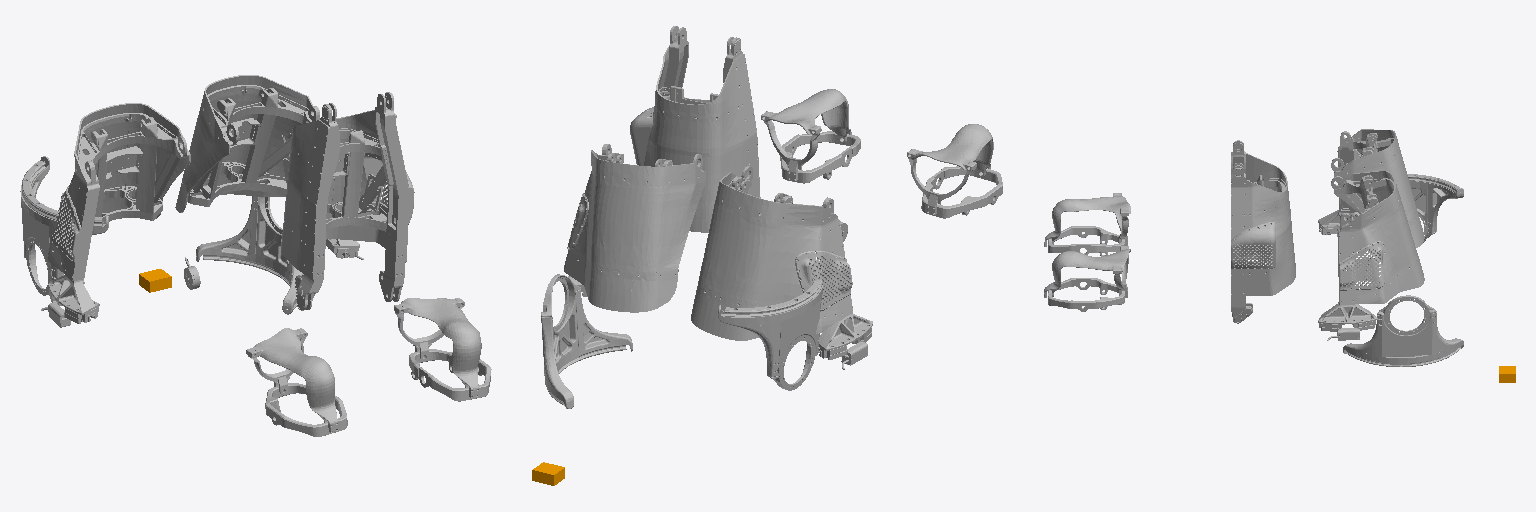
--- What the picture shows (computed from the rendered views, not written in the file) ---
The picture shows the robot from 3 angles, left to right: view 1: azimuth 30°, elevation 25°; view 2: azimuth 150°, elevation 25°; view 3: azimuth 270°, elevation 25°; orthographic projection.
Model p3_model with 19 links and 18 joints (12 revolute, 6 fixed), rooted at hip_ground_link, posed every joint at zero.
Visible links, largest first — view 1: left_shin_link, right_thigh_link, left_thigh_link, left_hip_fe_link, right_foot_link, left_foot_link, right_hip_fe_link, left_ankle_link, right_ankle_link, P3_IMU; view 2: right_thigh_link, left_thigh_link, left_shin_link, right_hip_fe_link, left_hip_fe_link, left_foot_link, right_foot_link, left_ankle_link, right_ankle_link, P3_IMU; view 3: left_thigh_link, left_shin_link, right_thigh_link, left_hip_fe_link, right_hip_fe_link, left_foot_link, right_foot_link, left_ankle_link, right_ankle_link.
Link boxes in pixels (x1,y1,x2,y2): left_shin_link: [281, 92, 414, 310]; right_thigh_link: [41, 103, 190, 327]; left_thigh_link: [175, 75, 363, 259]; left_hip_fe_link: [196, 196, 303, 314]; right_foot_link: [246, 328, 337, 432]; left_foot_link: [394, 298, 481, 397]; right_hip_fe_link: [20, 156, 108, 295]; left_ankle_link: [409, 349, 491, 401]; right_ankle_link: [265, 383, 347, 436]; P3_IMU: [139, 269, 171, 292]; right_thigh_link: [691, 166, 872, 369]; left_thigh_link: [564, 144, 705, 312]; left_shin_link: [630, 26, 760, 232]; right_hip_fe_link: [718, 259, 822, 390]; left_hip_fe_link: [541, 274, 632, 408]; left_foot_link: [761, 89, 851, 180]; right_foot_link: [907, 124, 993, 214]; left_ankle_link: [780, 131, 860, 183]; right_ankle_link: [921, 166, 1002, 218]; P3_IMU: [532, 462, 564, 485]; left_thigh_link: [1318, 171, 1424, 340]; left_shin_link: [1231, 140, 1295, 323]; right_thigh_link: [1318, 129, 1424, 247]; left_hip_fe_link: [1343, 295, 1463, 366]; right_hip_fe_link: [1407, 174, 1463, 242]; left_foot_link: [1044, 246, 1130, 297]; right_foot_link: [1044, 193, 1130, 246]; left_ankle_link: [1048, 278, 1124, 311]; right_ankle_link: [1048, 226, 1124, 255].
Size in the robot's own frame: 0.6043 by 1.11 by 0.6129 metres.
Meshes: 18 distinct files referenced, 10 mesh visuals loaded (10 binary STL); not drawn: 8 (reference not matched to a file when rendering).

robot.urdf — p3_model:
<robot
  name="p3_model">
  <link name="hip_ground_link">
    <inertial>
      <origin
        xyz="-0.00252 -0.04174 -0.21963"
        rpy="0 0 0" />
      <mass
        value="9.1437" />
      <inertia
        ixx="0.11497"
        ixy="-0.0021392"
        ixz="0.00014109"
        iyy="0.059666"
        iyz="0.022583"
        izz="0.16206" />
    </inertial>
    <visual>
      <origin
        xyz="0 0 0"
        rpy="-1.5707 0 0" />
      <geometry>
        <mesh
          filename="meshes/hip_ground_link.STL" />
      </geometry>
      <material
        name="">
        <color
          rgba="0.75294 0.75294 0.75294 1" />
      </material>
    </visual>
    <collision>
      <origin
        xyz="0 0 0"
        rpy="0 0 0" />
      <geometry>
        <mesh
          filename="meshes/hip_ground_link.STL" />
      </geometry>
    </collision>
  </link>
  <joint
    name="Sagit_P3_Hip_FT_Sensor"
    type="fixed">
    <origin
      xyz="0 -0.015 -0.15247"
      rpy="0 0 0" />
    <parent
      link="hip_ground_link" />
    <child
      link="hip_f/t_sensor" />
    <axis
      xyz="0 0 0" />
  </joint>
  <link
    name="hip_f/t_sensor">
    <inertial>
      <origin
        xyz="-0.000549097540975381 0.000203175483258886 -0.00714130419826856"
        rpy="0 0 0" />
      <mass
        value="0.046215262898878" />
      <inertia
        ixx="0"
        ixy="0"
        ixz="0"
        iyy="0"
        iyz="0"
        izz="0" />
    </inertial>
    <visual>
      <origin
        xyz="0 0 0"
        rpy="-1.57070 0 0" />
      <geometry>
        <mesh
          filename="meshes/hip_f_t_sensor.STL" />
      </geometry>
      <material
        name="">
        <color
          rgba="0.752941176470588 0.752941176470588 0.752941176470588 1" />
      </material>
    </visual>
    <collision>
      <origin
        xyz="0 0 0"
        rpy="0 0 0" />
      <geometry>
        <mesh
          filename="meshes/hip_f_t_sensor.STL" />
      </geometry>
    </collision>
  </link>
<!-- IMU Joint/Link -->
  <joint
    name="Sagit_P3_IMU_joint"
    type="fixed">
    <origin
      xyz="0.136 0.134 -0.179"
      rpy="1.5708 0 -1.5708" />
    <parent
      link="hip_ground_link" />
    <child
      link="P3_IMU" />
    <axis
      xyz="0 0 0" />
  </joint>
  <link
    name="P3_IMU">
    <inertial>
      <origin
        xyz="0 0 0"
        rpy="0 0 0" />
      <mass
        value="0.25" />
      <inertia
        ixx="0"
        ixy="0"
        ixz="0"
        iyy="0"
        iyz="0"
        izz="0" />
    </inertial>
    <visual>
      <origin
        xyz="-0.0193 -0.0224 0.01075"
        rpy="-1.57070 0 0" />
     <geometry>
       <box size="0.0386 0.0448 0.0215" />
     </geometry>
      <material
        name="">
        <color
          rgba="1 0.64705882352 0 1" />
      </material>
    </visual>
    <collision>
      <origin
        xyz="0 0 0"
        rpy="0 0 0" />
     <geometry>
       <box size="0.0386 0.0448 0.0215" />
     </geometry>
    </collision>
  </link>

   <!-- P3 RIGHT SIDE -->


  <joint
    name="Sagit_P3_Abduction_Right"
    type="revolute">
    <origin
      xyz="-0.1025 -0.19938 -0.15461"
      rpy="-0.52046 -0.060105 -0.10442" />
    <parent
      link="hip_ground_link" />
    <child
      link="right_hip_abd/add_link" />
    <axis
      xyz="0 0 1" />
    <limit
      effort="0"
      velocity="0"
      lower="-0.611"
      upper="0.873" />
  </joint>
  <link
    name="right_hip_abd/add_link">
    <inertial>
      <origin
        xyz="-0.14506 0.02434 0.14214"
        rpy="0 0 0" />
      <mass
        value="2.37" />
      <inertia
        ixx="0.0114056540911523"
        ixy="-0.00168082766225483"
        ixz="0.00610247598439131"
        iyy="0.0151927917692044"
        iyz="0.00334524244885922"
        izz="0.006361868744477" />
    </inertial>
    <visual>
      <origin
        xyz="0 0 0"
        rpy="-1.57070 0 0" />
      <geometry>
        <mesh
          filename="meshes/right_hip_abd_add_link.STL" />
      </geometry>
      <material
        name="">
        <color
          rgba="0.752941176470588 0.752941176470588 0.752941176470588 1" />
      </material>
    </visual>
    <collision>
      <origin
        xyz="0 0 0"
        rpy="0 0 0" />
      <geometry>
        <mesh
          filename="meshes/right_hip_abd_add_link.STL" />
      </geometry>
    </collision>
  </link>
  <joint
    name="Sagit_P3_Flexion_Right"
    type="revolute">
    <origin
      xyz="-0.1475 0.00075 0.1992"
      rpy="0.5236 6.245E-17 -2.1164E-16" />
    <parent
      link="right_hip_abd/add_link" />
    <child
      link="right_hip_fe_link" />
    <axis
      xyz="1 0 0" />
    <limit
      effort="0"
      velocity="0"
      lower="-1.963"
      upper="0.262" />
  </joint>
  <link
    name="right_hip_fe_link">
    <inertial>
      <origin
        xyz="0.02125 -0.10906 0.00004"
        rpy="0 0 0" />
      <mass
        value="2.38" />
      <inertia
        ixx="0.00334659558092072"
        ixy="0.000217334132544034"
        ixz="-4.16170985997141E-07"
        iyy="0.00237506737299935"
        iyz="-5.9660412382548E-07"
        izz="0.00110550421000643" />
    </inertial>
    <visual>
      <origin
        xyz="0 0 0"
        rpy="-1.57070 0 0" />
      <geometry>
        <mesh
          filename="meshes/right_hip_fe_link.STL" />
      </geometry>
      <material
        name="">
        <color
          rgba="0.752941176470588 0.752941176470588 0.752941176470588 1" />
      </material>
    </visual>
    <collision>
      <origin
        xyz="0 0 0"
        rpy="0 0 0" />
      <geometry>
        <mesh
          filename="meshes/right_hip_fe_link.STL" />
      </geometry>
    </collision>
  </link>
  <!-- type can be switched from fixed to revolute -->
  <!-- <joint
    name="Sagit_P3_Hip_Yaw_Right"
    type="revolute"> -->
  <joint
    name="Sagit_P3_Hip_Yaw_Right_Passive"
    type="revolute">
  <!-- <joint
    name="Sagit_P3_Hip_Yaw_Right_Passive"
    type="fixed"> -->
    <origin
      xyz="0.1475 -0.142 0"
      rpy="8.5825E-16 2.0817E-17 -9.5678E-16" />
    <parent
      link="right_hip_fe_link" />
    <child
      link="right_thigh_link" />
    <axis
      xyz="0 1 0" />
    <limit
      effort="0"
      velocity="0"
      lower="-0.611"
      upper="0.611" />
  </joint>
  <link
    name="right_thigh_link">
    <inertial>
      <origin
        xyz="-0.02903 -0.11972 0.09439"
        rpy="0 0 0" />
      <mass
        value="3.19" />
      <inertia
        ixx="0.0162000606171735"
        ixy="0.00879667099291498"
        ixz="-0.00473963596430454"
        iyy="0.0136139183996148"
        iyz="0.00400927557737052"
        izz="0.0214349854288065" />
    </inertial>
    <visual>
      <origin
        xyz="0 0 0"
        rpy="-1.57070 0 0" />
      <geometry>
        <mesh
          filename="meshes/right_thigh_link.STL" />
      </geometry>
      <material
        name="">
        <color
          rgba="0.752941176470588 0.752941176470588 0.752941176470588 1" />
      </material>
    </visual>
    <collision>
      <origin
        xyz="0 0 0"
        rpy="0 0 0" />
      <geometry>
        <mesh
          filename="meshes/right_thigh_link.STL" />
      </geometry>
    </collision>
  </link>
  <joint
    name="Sagit_P3_Thigh_Right_FT_Sensor"
    type="fixed">
    <origin
      xyz="0 -0.18709 0.081984"
      rpy="-3.1416 0.2618 -1.5708" />
    <parent
      link="right_thigh_link" />
    <child
      link="right_thigh_f/t_sensor" />
    <axis
      xyz="0 0 0" />
  </joint>
  <link
    name="right_thigh_f/t_sensor">
    <inertial>
      <origin
        xyz="-0.000549094925531513 0.000203174302725456 -0.00714130327248891"
        rpy="0 0 0" />
      <mass
        value="0.0462152585935042" />
      <inertia
        ixx="0"
        ixy="0"
        ixz="0"
        iyy="0"
        iyz="0"
        izz="0" />
    </inertial>
    <visual>
      <origin
        xyz="0 0 0"
        rpy="-1.57070 0 0" />
      <geometry>
        <mesh
          filename="meshes/right_thigh_f_t_sensor.STL" />
      </geometry>
      <material
        name="">
        <color
          rgba="0.752941176470588 0.752941176470588 0.752941176470588 1" />
      </material>
    </visual>
    <collision>
      <origin
        xyz="0 0 0"
        rpy="0 0 0" />
      <geometry>
        <mesh
          filename="meshes/right_thigh_f_t_sensor.STL" />
      </geometry>
    </collision>
  </link>
  <joint
    name="Sagit_P3_Knee_Right"
    type="revolute">
    <origin
      xyz="0 -0.24432 0"
      rpy="0.00089208 0.008516 0.10437" />
    <parent
      link="right_thigh_link" />
    <child
      link="right_shin_link" />
    <axis xyz="0.99452 -0.10418 0.0" />
    <!--<axis xyz="0.99452 -0.10418 0.0085625" />-->
    <limit
      effort="0"
      velocity="0"
      lower="-0.06876597252"
      upper="2.026" />
  </joint>
  <link
    name="right_shin_link">
    <inertial>
      <origin
        xyz="-0.00627 -0.16404 0.06308"
        rpy="0 0 0" />
      <mass
        value="3.008" />
      <inertia
        ixx="0.00565266471326236"
        ixy="0.000368043140130914"
        ixz="-0.000180057149522133"
        iyy="0.00647059198020386"
        iyz="8.11953392731939E-05"
        izz="0.00936046386714468" />
    </inertial>
    <visual>
      <origin
        xyz="0 0 0"
        rpy="-1.57070 0 0" />
      <geometry>
        <mesh
          filename="meshes/right_shin_link.STL" />
      </geometry>
      <material
        name="">
        <color
          rgba="0.752941176470588 0.752941176470588 0.752941176470588 1" />
      </material>
    </visual>
    <collision>
      <origin
        xyz="0 0 0"
        rpy="0 0 0" />
      <geometry>
        <mesh
          filename="meshes/right_shin_link.STL" />
      </geometry>
    </collision>
  </link>
  <joint
    name="Sagit_P3_Shin_Right_FT_Sensor"
    type="fixed">
    <origin
      xyz="0 -0.23345 0.051125"
      rpy="-3.1416 0.087266 -1.5708" />
    <parent
      link="right_shin_link" />
    <child
      link="right_shin_f/t_sensor" />
    <axis
      xyz="0 0 0" />
  </joint>
  <link
    name="right_shin_f/t_sensor">
    <inertial>
      <origin
        xyz="-0.00054909438467865 0.000203173734973194 -0.00714130365667479"
        rpy="0 0 0" />
      <mass
        value="0.0462152574279291" />
      <inertia
        ixx="0"
        ixy="0"
        ixz="0"
        iyy="0"
        iyz="0"
        izz="0" />
    </inertial>
    <visual>
      <origin
        xyz="0 0 0"
        rpy="-1.57070 0 0" />
      <geometry>
        <mesh
          filename="meshes/right_shin_f_t_sensor.STL" />
      </geometry>
      <material
        name="">
        <color
          rgba="0.752941176470588 0.752941176470588 0.752941176470588 1" />
      </material>
    </visual>
    <collision>
      <origin
        xyz="0 0 0"
        rpy="0 0 0" />
      <geometry>
        <mesh
          filename="meshes/right_shin_f_t_sensor.STL" />
      </geometry>
    </collision>
  </link>
  <joint
    name="Sagit_P3_Ankle_Right"
    type="revolute">
    <origin
      xyz="0 -0.366 0"
      rpy="6.0715E-17 -6.9389E-18 -6.1407E-17" />
    <parent
      link="right_shin_link" />
    <child
      link="right_ankle_link" />
    <axis
      xyz="1 0 0" />
    <limit
      effort="0"
      velocity="0"
      lower="-0.524"
      upper="0.611" />
  </joint>
  <link
    name="right_ankle_link">
    <inertial>
      <origin
        xyz="-0.00869 -0.00026 0.00844"
        rpy="0 0 0" />
      <mass
        value="0.238" />
      <inertia
        ixx="0"
        ixy="0"
        ixz="0"
        iyy="0"
        iyz="0"
        izz="0" />
    </inertial>
    <visual>
      <origin
        xyz="0 0 0"
        rpy="-1.57070 0 0" />
      <geometry>
        <mesh
          filename="meshes/right_ankle_link.STL" />
      </geometry>
      <material
        name="">
        <color
          rgba="0.752941176470588 0.752941176470588 0.752941176470588 1" />
      </material>
    </visual>
    <collision>
      <origin
        xyz="0 0 0"
        rpy="0 0 0" />
      <geometry>
        <mesh
          filename="meshes/right_ankle_link.STL" />
      </geometry>
    </collision>
  </link>
  <!-- type can be switched from fixed to revolute -->
  <joint
    name="Sagit_P3_Ankle_Roll_Right_Passive"
    type="revolute">
  <!-- <joint
    name="Sagit_P3_Ankle_Roll_Right_Passive"
    type="fixed"> -->
    <origin
      xyz="0 0 0"
      rpy="1.249E-16 2.7756E-17 -1.7483E-18" />
    <parent
      link="right_ankle_link" />
    <child
      link="right_foot_link" />
    <axis
      xyz="0 0 1" />
    <limit
      effort="0"
      velocity="0"
      lower="-0.61086523819"
      upper="0.61086523819" />
  </joint>
  <link
    name="right_foot_link">
    <inertial>
      <origin
        xyz="-0.00462 -0.06907 0.01783"
        rpy="0 0 0" />
      <mass
        value="0.25" />
      <inertia
        ixx="0.000519364982683758"
        ixy="-3.94937974568523E-06"
        ixz="-8.31252166845822E-06"
        iyy="0.000448807847817588"
        iyz="-0.000155919814858676"
        izz="7.12502428327461E-05" />
    </inertial>
    <visual>
      <origin
        xyz="0 0 0"
        rpy="-1.57070 0 0" />
      <geometry>
        <mesh
          filename="meshes/right_foot_link.STL" />
      </geometry>
      <material
        name="">
        <color
          rgba="0.752941176470588 0.752941176470588 0.752941176470588 1" />
      </material>
    </visual>
    <collision>
      <origin
        xyz="0 0 0"
        rpy="0 0 0" />
      <geometry>
        <mesh
          filename="meshes/right_foot_link.STL" />
      </geometry>
    </collision>
  </link>


  <!-- P3 LEFT SIDE -->

  <joint
    name="Sagit_P3_Abduction_Left"
    type="revolute">
    <origin
      xyz="0.1025 -0.19938 -0.15461"
      rpy="-0.52046 0.060105 0.10442" />
    <parent
      link="hip_ground_link" />
    <child
      link="left_hip_abd/add_link" />
    <axis
      xyz="0 0 1" />
    <limit
      effort="0"
      velocity="0" 
      lower="-0.873"
      upper="0.611" />
  </joint>
  <link
    name="left_hip_abd/add_link">
    <inertial>
      <origin
        xyz="0.14506 0.02434 0.14214"
        rpy="0 0 0" />
      <mass
        value="2.37" />
      <inertia
        ixx="0.0114068446866524"
        ixy="0.00169215045489832"
        ixz="-0.00609776421988829"
        iyy="0.0152202238013214"
        iyz="0.00333339595861607"
        izz="0.00633648666768316" />
    </inertial>
    <visual>
      <origin
        xyz="0 0 0"
        rpy="-1.57070 0 0" />
      <geometry>
        <mesh
          filename="meshes/left_hip_abd_add_link.STL" />
      </geometry>
      <material
        name="">
        <color
          rgba="0.752941176470588 0.752941176470588 0.752941176470588 1" />
      </material>
    </visual>
    <collision>
      <origin
        xyz="0 0 0"
        rpy="0 0 0" />
      <geometry>
        <mesh
          filename="meshes/left_hip_abd_add_link.STL" />
      </geometry>
    </collision>
  </link>
  <joint
    name="Sagit_P3_Flexion_Left"
    type="revolute">
    <origin
      xyz="0.1475 0.000749999999997086 0.199200961894321"
      rpy="2.61799387799151 1.17961196366423E-16 -3.14159265358979" />
    <parent
      link="left_hip_abd/add_link" />
    <child
      link="left_hip_fe_link" />
    <axis
      xyz="-1 0 0" />
    <limit
      effort="0"
      velocity="0" 
      lower="-1.963"
      upper="0.262" />
  </joint>
  <link
    name="left_hip_fe_link">
    <inertial>
      <origin
        xyz="0.02125 -0.10906 -0.00004"
        rpy="0 0 0" />
      <mass
        value="2.38" />
      <inertia
        ixx="0.00334659534923131"
        ixy="-0.00021733411032375"
        ixz="-4.17436685358473E-07"
        iyy="0.00237506751126287"
        iyz="5.98503333828489E-07"
        izz="0.00110550394464832" />
    </inertial>
    <visual>
      <origin
        xyz="0 0 0"
        rpy="-1.57070 0 0" />
      <geometry>
        <mesh
          filename="meshes/left_hip_f_e_link.STL" />
      </geometry>
      <material
        name="">
        <color
          rgba="0.752941176470588 0.752941176470588 0.752941176470588 1" />
      </material>
    </visual>
    <collision>
      <origin
        xyz="0 0 0"
        rpy="0 0 0" />
      <geometry>
        <mesh
          filename="meshes/left_hip_f_e_link.STL" />
      </geometry>
    </collision>
  </link>
    <!-- type can be switched from fixed to revolute -->
  <!-- <joint
    name="Sagit_P3_Hip_Yaw_Left"
    type="revolute"> -->
  <joint
    name="Sagit_P3_Hip_Yaw_Left_Passive"
    type="revolute">
  <!-- <joint
    name="Sagit_P3_Hip_Yaw_Left_Passive"
    type="fixed"> -->
    <!-- <origin
      xyz="0.1475 -0.38632 0"
      rpy="3.1416 6.9389E-18 3.1416" /> -->
    <origin
      xyz="0.1475 -0.142 0"
      rpy="3.1416 0 3.1416" />
    <parent
      link="left_hip_fe_link" />
    <child
      link="left_thigh_link" />
    <axis
      xyz="0 1 0" />
    <limit
      effort="0"
      velocity="0"
      lower="-0.611"
      upper="0.611" />
  </joint>
  <link
    name="left_thigh_link">
    <inertial>
      <origin
        xyz="0.02903 -0.11972 0.09439"
        rpy="0 0 0" />
      <mass
        value="3.19" />
      <inertia
        ixx="0.016212536412593"
        ixy="-0.00880042705630205"
        ixz="0.00473054710313293"
        iyy="0.0136057751524905"
        iyz="0.00402602232001844"
        izz="0.0214236911621945" />
    </inertial>
    <visual>
      <origin
        xyz="0 0 0"
        rpy="-1.57070 0 0" />
      <geometry>
        <!-- <mesh
          filename="meshes/left_thigh_link_new.STL" /> -->
        <mesh
          filename="meshes/left_thigh_link_new.STL" />
      </geometry>
      <material
        name="">
        <color
          rgba="0.752941176470588 0.752941176470588 0.752941176470588 1" />
      </material>
    </visual>
    <collision>
      <origin
        xyz="0 0 0"
        rpy="0 0 0" />
      <geometry>
        <mesh
          filename="meshes/left_thigh_link_new.STL" />
      </geometry>
    </collision>
  </link>
  <joint
    name="Sagit_P3_Thigh_Left_FT_Sensor"
    type="fixed">
    <!-- <origin
      xyz="0 0.057231 0.081984"
      rpy="3.1416 -0.2618 1.5708" /> -->
    <origin
      xyz="0 -0.18709 0.081984"
      rpy="3.1416 -0.2618 1.5708" />
    <parent
      link="left_thigh_link" />
    <child
      link="left_thigh_f/t_sensor" />
    <axis
      xyz="0 0 0" />
  </joint>
  <link
    name="left_thigh_f/t_sensor">
    <inertial>
      <origin
        xyz="-0.000549098781895185 0.000203177676691299 -0.00714130533313195"
        rpy="0 0 0" />
      <mass
        value="0.0462152726226985" />
      <inertia
        ixx="0"
        ixy="0"
        ixz="0"
        iyy="0"
        iyz="0"
        izz="0" />
    </inertial>
    <visual>
      <origin
        xyz="0 0 0"
        rpy="-1.57070 0 0" />
      <geometry>
        <mesh
          filename="meshes/left_thigh_f_t_sensor.STL" />
      </geometry>
      <material
        name="">
        <color
          rgba="0.752941176470588 0.752941176470588 0.752941176470588 1" />
      </material>
    </visual>
    <collision>
      <origin
        xyz="0 0 0"
        rpy="0 0 0" />
      <geometry>
        <mesh
          filename="meshes/left_thigh_f_t_sensor.STL" />
      </geometry>
    </collision>
  </link>
  <joint
    name="Sagit_P3_Knee_Left"
    type="revolute">
    <!-- <origin
      xyz="0 0 0"
      rpy="0.00089208 -0.008516 -0.10437" /> -->
    <origin
      xyz="0 -0.244324789874438 0"
      rpy="0.000892082957046399 -0.00851601606974494 -0.104374173664101" /> 
    <parent
      link="left_thigh_link" />
    <child
      link="left_shin_link" />
    <!--<axis xyz="0.99452 0.10418 -0.0085625" />-->
    <axis xyz="0.99452 0.10418 0.0" />
    <limit
      effort="0"
      velocity="0" 
      lower="-0.06876597252"
      upper="2.026" />
  </joint>
  <link
    name="left_shin_link">
    <inertial>
      <origin
        xyz="0.00627 -0.16404 0.06308"
        rpy="0 0 0" />
      <mass
        value="3.008" />
      <inertia
        ixx="0.00504703161814173"
        ixy="-0.000450518314816275"
        ixz="0.000185881782874105"
        iyy="0.0061518494956966"
        iyz="0.000102189439066134"
        izz="0.00853566850735276" />
    </inertial>
    <visual>
      <origin
        xyz="0 0 0"
        rpy="-1.57070 0 0" />
      <geometry>
        <mesh
          filename="meshes/left_shin_link.STL" />
      </geometry>
      <material
        name="">
        <color
          rgba="0.752941176470588 0.752941176470588 0.752941176470588 1" />
      </material>
    </visual>
    <collision>
      <origin
        xyz="0 0 0"
        rpy="0 0 0" />
      <geometry>
        <mesh
          filename="meshes/left_shin_link.STL" />
      </geometry>
    </collision>
  </link>
  <joint
    name="Sagit_P3_Shin_Left_FT_Sensor"
    type="fixed">
    <origin
      xyz="0 -0.23345 0.051125"
      rpy="-3.1416 0.087266 -1.5708" />
    <parent
      link="left_shin_link" />
    <child
      link="left_shin_f/t_sensor" />
    <axis
      xyz="0 0 0" />
  </joint>
  <link
    name="left_shin_f/t_sensor">
    <inertial>
      <origin
        xyz="-0.000549094379241555 0.000203173732842121 -0.00714130365575216"
        rpy="0 0 0" />
      <mass
        value="0.0462152574093924" />
      <inertia
        ixx="0"
        ixy="0"
        ixz="0"
        iyy="0"
        iyz="0"
        izz="0" />
    </inertial>
    <visual>
      <origin
        xyz="0 0 0"
        rpy="-1.57070 0 0" />
      <geometry>
        <mesh
          filename="meshes/left_shin_f_t_sensor.STL" />
      </geometry>
      <material
        name="">
        <color
          rgba="0.752941176470588 0.752941176470588 0.752941176470588 1" />
      </material>
    </visual>
    <collision>
      <origin
        xyz="0 0 0"
        rpy="0 0 0" />
      <geometry>
        <mesh
          filename="meshes/left_shin_f_t_sensor.STL" />
      </geometry>
    </collision>
  </link>
  <joint
    name="Sagit_P3_Ankle_Left"
    type="revolute">
    <origin
      xyz="0 -0.366 0"
      rpy="2.3896E-16 -2.7756E-17 -8.5923E-18" />
    <parent
      link="left_shin_link" />
    <child
      link="left_ankle_link" />
    <axis
      xyz="1 0 0" />
    <limit
      effort="0"
      velocity="0"
      lower="-0.524"
      upper="0.611" /> />
  </joint>
  <link
    name="left_ankle_link">
    <inertial>
      <origin
        xyz="0.00869 -0.00026 0.00844"
        rpy="0 0 0" />
      <mass
        value="0.238" />
      <inertia
        ixx="0"
        ixy="0"
        ixz="0"
        iyy="0"
        iyz="0"
        izz="0" />
    </inertial>
    <visual>
      <origin
        xyz="0 0 0"
        rpy="-1.57070 0 0" />
      <geometry>
        <mesh
          filename="meshes/left_ankle_link.STL" />
      </geometry>
      <material
        name="">
        <color
          rgba="0.752941176470588 0.752941176470588 0.752941176470588 1" />
      </material>
    </visual>
    <collision>
      <origin
        xyz="0 0 0"
        rpy="0 0 0" />
      <geometry>
        <mesh
          filename="meshes/left_ankle_link.STL" />
      </geometry>
    </collision>
  </link>
  <!-- type can be switched from fixed to revolute -->
  <joint
    name="Sagit_P3_Ankle_Roll_Left_Passive"
    type="revolute">
  <!-- <joint
    name="Sagit_P3_Ankle_Roll_Left_Passive"
    type="fixed"> -->
    <origin
      xyz="0 0 0"
      rpy="6.1149E-17 6.9389E-18 2.6021E-18" />
    <parent
      link="left_ankle_link" />
    <child
      link="left_foot_link" />
    <axis
      xyz="0 0 1" />
    <limit
      effort="0"
      velocity="0"
      lower="-0.61086523819"
      upper="0.61086523819" />
  </joint>
  <link
    name="left_foot_link">
    <inertial>
      <origin
        xyz="0.00462 -0.06907 0.01783"
        rpy="0 0 0" />
      <mass
        value="0.25" />
      <inertia
        ixx="0.000203368320611764"
        ixy="1.75946030813124E-06"
        ixz="2.64328867261215E-06"
        iyy="0.000172404922248118"
        iyz="-5.2526247182956E-05"
        izz="3.1166332016296E-05" />
    </inertial>
    <visual>
      <origin
        xyz="0 0 0"
        rpy="-1.57070 0 0" />
      <geometry>
        <mesh
          filename="meshes/left_foot_link.STL" />
      </geometry>
      <material
        name="">
        <color
          rgba="0.752941176470588 0.752941176470588 0.752941176470588 1" />
      </material>
    </visual>
    <collision>
      <origin
        xyz="0 0 0"
        rpy="0 0 0" />
      <geometry>
        <mesh
          filename="meshes/left_foot_link.STL" />
      </geometry>
    </collision>
  </link>
</robot>
